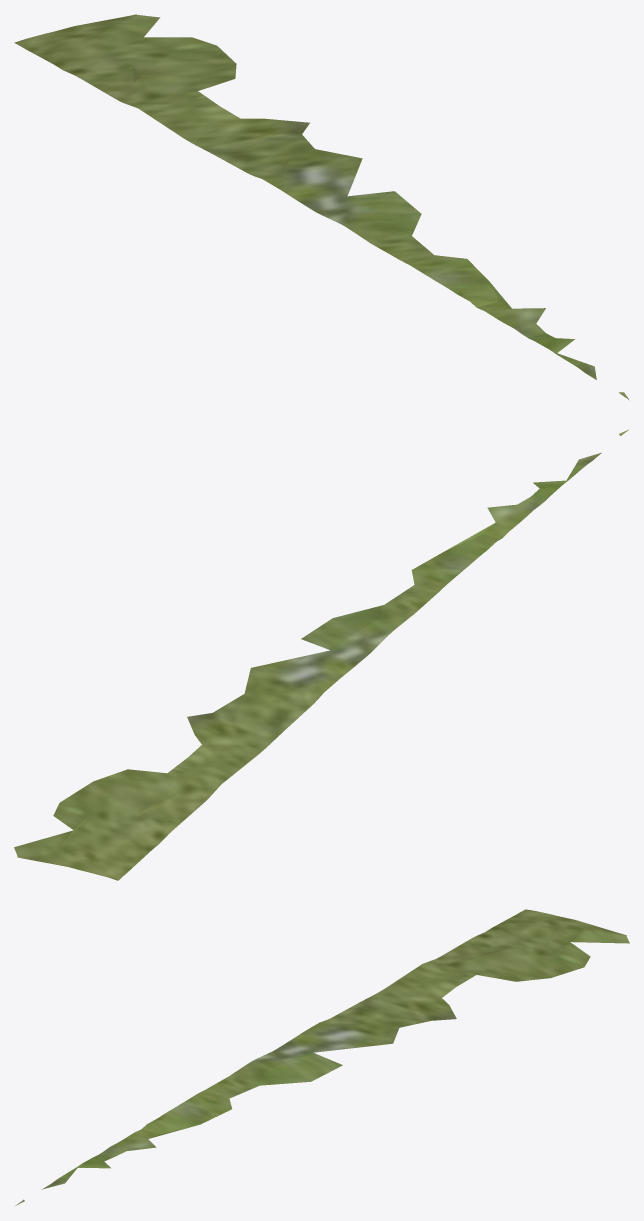
3 views of the same model, one above another, from view 1: azimuth 30°, elevation 25°; view 2: azimuth 150°, elevation 25°; view 3: azimuth 330°, elevation 25° (orthographic). The views are drawn at different scales.
Bounding box in the file's own units: 0.3635 × 0.2402 × 2.83.
1 material, 1 textured.
